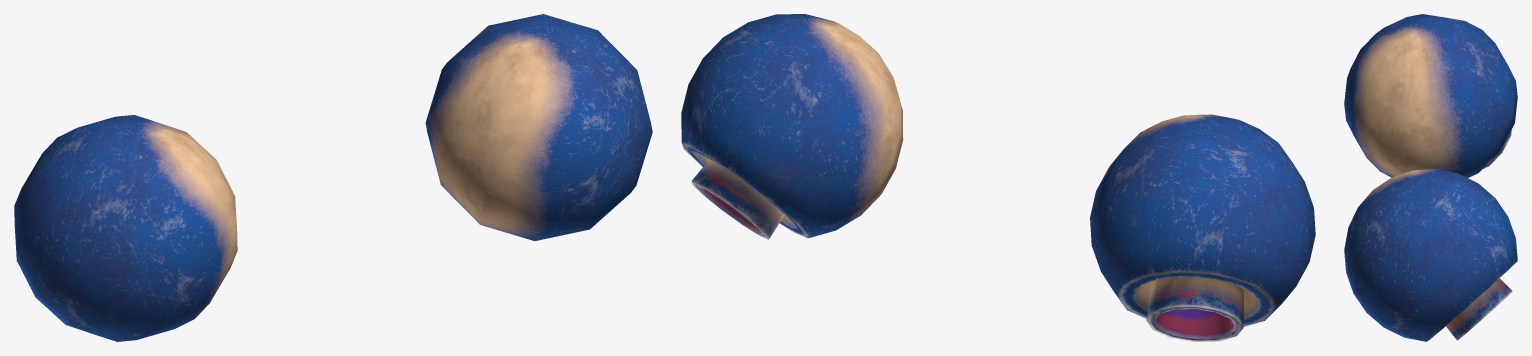
File: bag02.obj
The picture shows the model from 3 angles, left to right: view 1: azimuth 30°, elevation 25°; view 2: azimuth 150°, elevation 25°; view 3: azimuth 270°, elevation 25°; orthographic projection. The views are drawn at different scales.
Parts seen in each view (by area): view 1: bag02; view 2: bag02; view 3: bag02.
Part boxes in pixels (x1,y1,x2,y2): bag02: [14, 14, 652, 341]; bag02: [681, 14, 1315, 341]; bag02: [1344, 14, 1517, 341].
Bounding box in the file's own units: 1.74 × 0.5615 × 0.5589.
